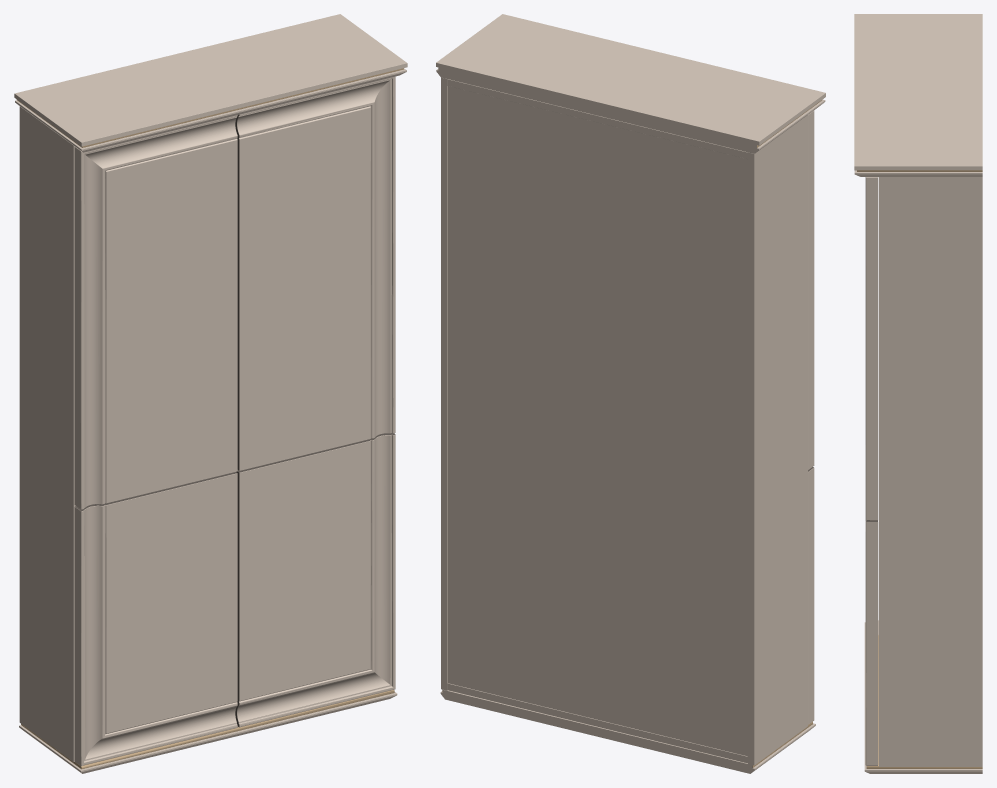
3 views of the same model, side by side, from view 1: azimuth 30°, elevation 25°; view 2: azimuth 150°, elevation 25°; view 3: azimuth 270°, elevation 25° (orthographic). The views are drawn at different scales.
Visible parts, largest first — view 1: BL010.007, BL12.001; view 2: BL12.001, BL010.007; view 3: BL12.001, BL010.007.
Boxes of the visible parts, x1,y1,x2,y2 form: BL010.007: (74,76,395,765); BL12.001: (14,14,407,773); BL12.001: (436,14,825,773); BL010.007: (808,110,814,724); BL12.001: (854,14,982,773); BL010.007: (865,177,878,765).
Size of the model in its own units: 0.8 by 1.5 by 0.2855.
